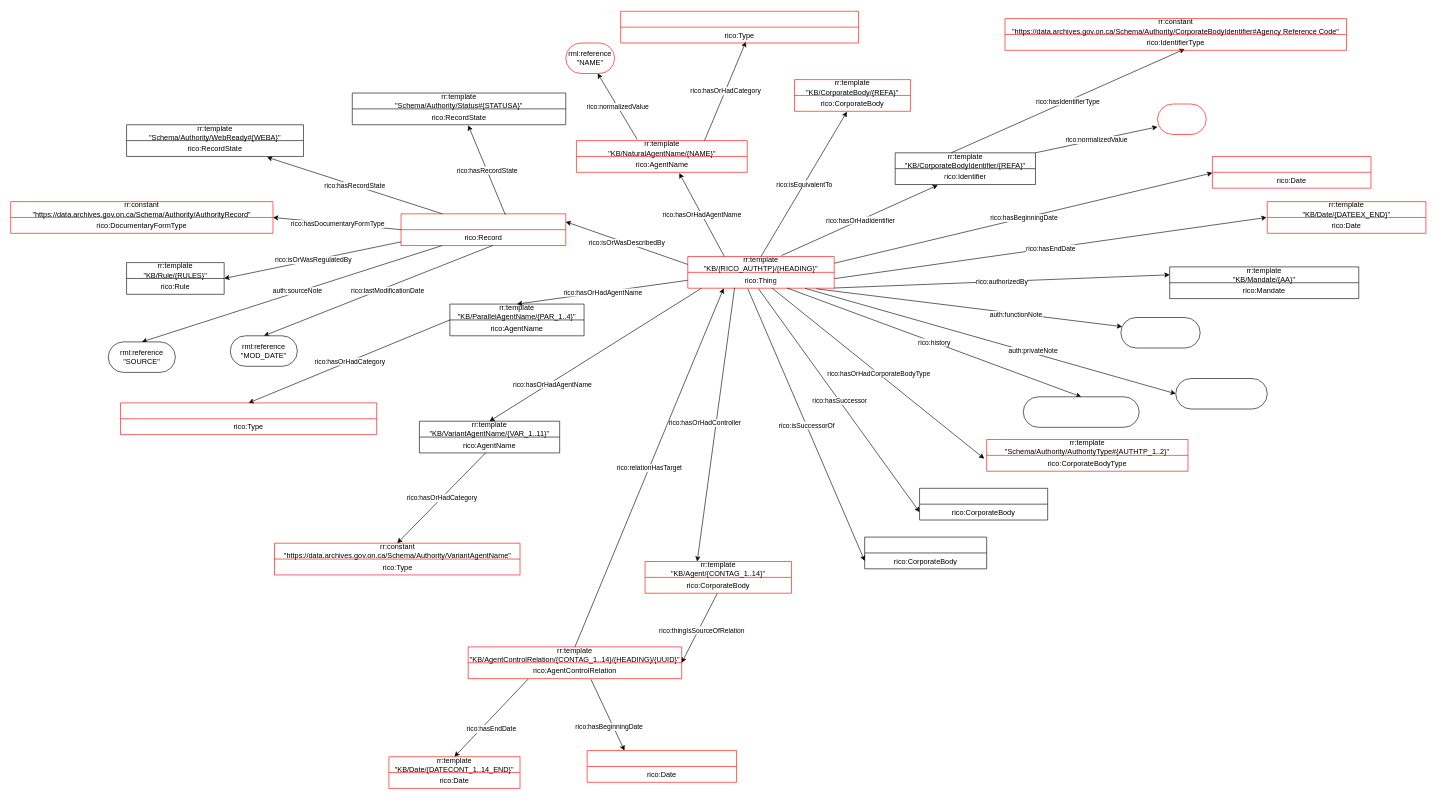
This 1437x801 diagram has some shape labels left out. Each missing label, with the box of its shape:
rml:reference " ADM ": (1023, 396, 1139, 427)
rml:reference " CMTAU ": (1175, 378, 1267, 409)
rml:reference " FUN ": (1120, 317, 1200, 348)
rml:reference "REFA": (1157, 103, 1206, 135)
rr:constant "https://data.archives.gov.on.ca/Schema/Authority/NaturalAgentName": (620, 11, 859, 43)
rr:constant "https://data.archives.gov.on.ca/Schema/Authority/ParallelAgentName": (120, 402, 377, 435)
rr:template " KB / AuthorityRecord/{HEADING}": (400, 213, 566, 246)
rr:template " KB /Agent/ { PRED_1..5 }": (864, 536, 987, 569)
rr:template "KB/Agent/ { SUC_1..4 }": (919, 488, 1048, 520)
rr:template "KB/Date /{ DATEEX_BEGINNING}": (1212, 156, 1371, 188)
rr:template "KB/Date/{DATECONT_1..14_BEGINNING}": (587, 750, 737, 782)
